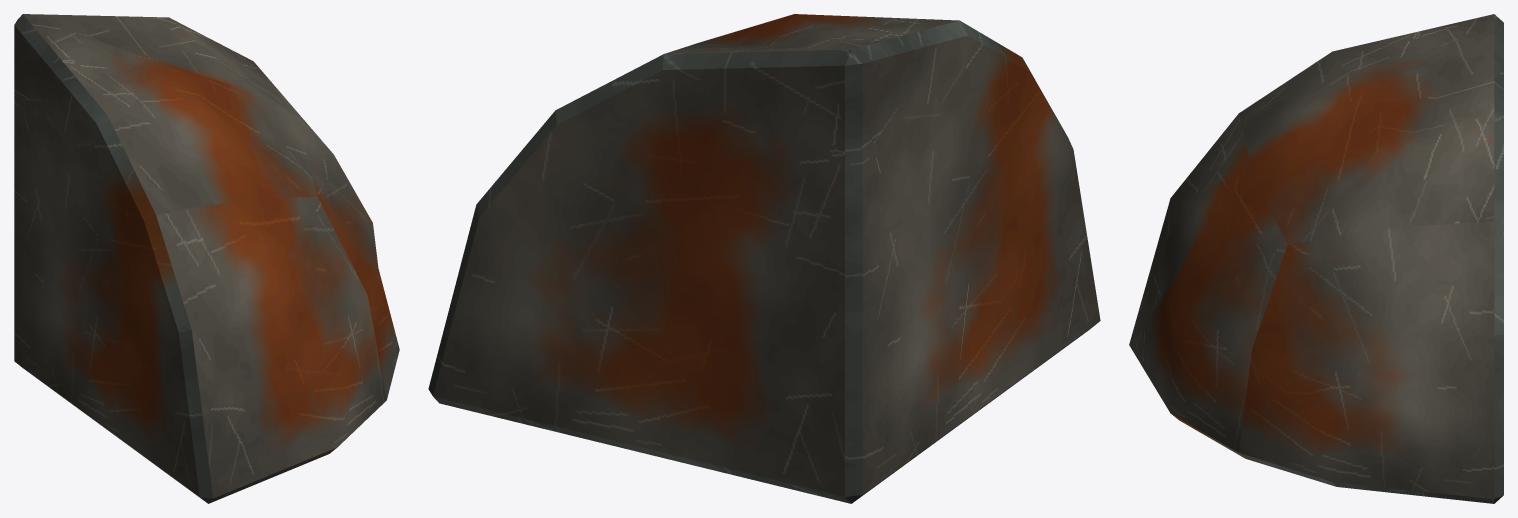
File: R4B_RoundCorner_LOD1.glb
3 views of the same model, side by side, from view 1: azimuth 30°, elevation 25°; view 2: azimuth 150°, elevation 25°; view 3: azimuth 270°, elevation 25° (orthographic). The views are drawn at different scales.
Visible parts, largest first — view 1: R4B_RoundCorner_LOD1; view 2: R4B_RoundCorner_LOD1; view 3: R4B_RoundCorner_LOD1.
Boxes of the visible parts, bbox=[...] form: R4B_RoundCorner_LOD1: bbox=[14, 14, 399, 503]; R4B_RoundCorner_LOD1: bbox=[428, 14, 1100, 503]; R4B_RoundCorner_LOD1: bbox=[1129, 14, 1503, 503].
Bounding box in the file's own units: 0.5147 × 0.5147 × 0.5147.
Materials: 2 (2 with a texture image).
